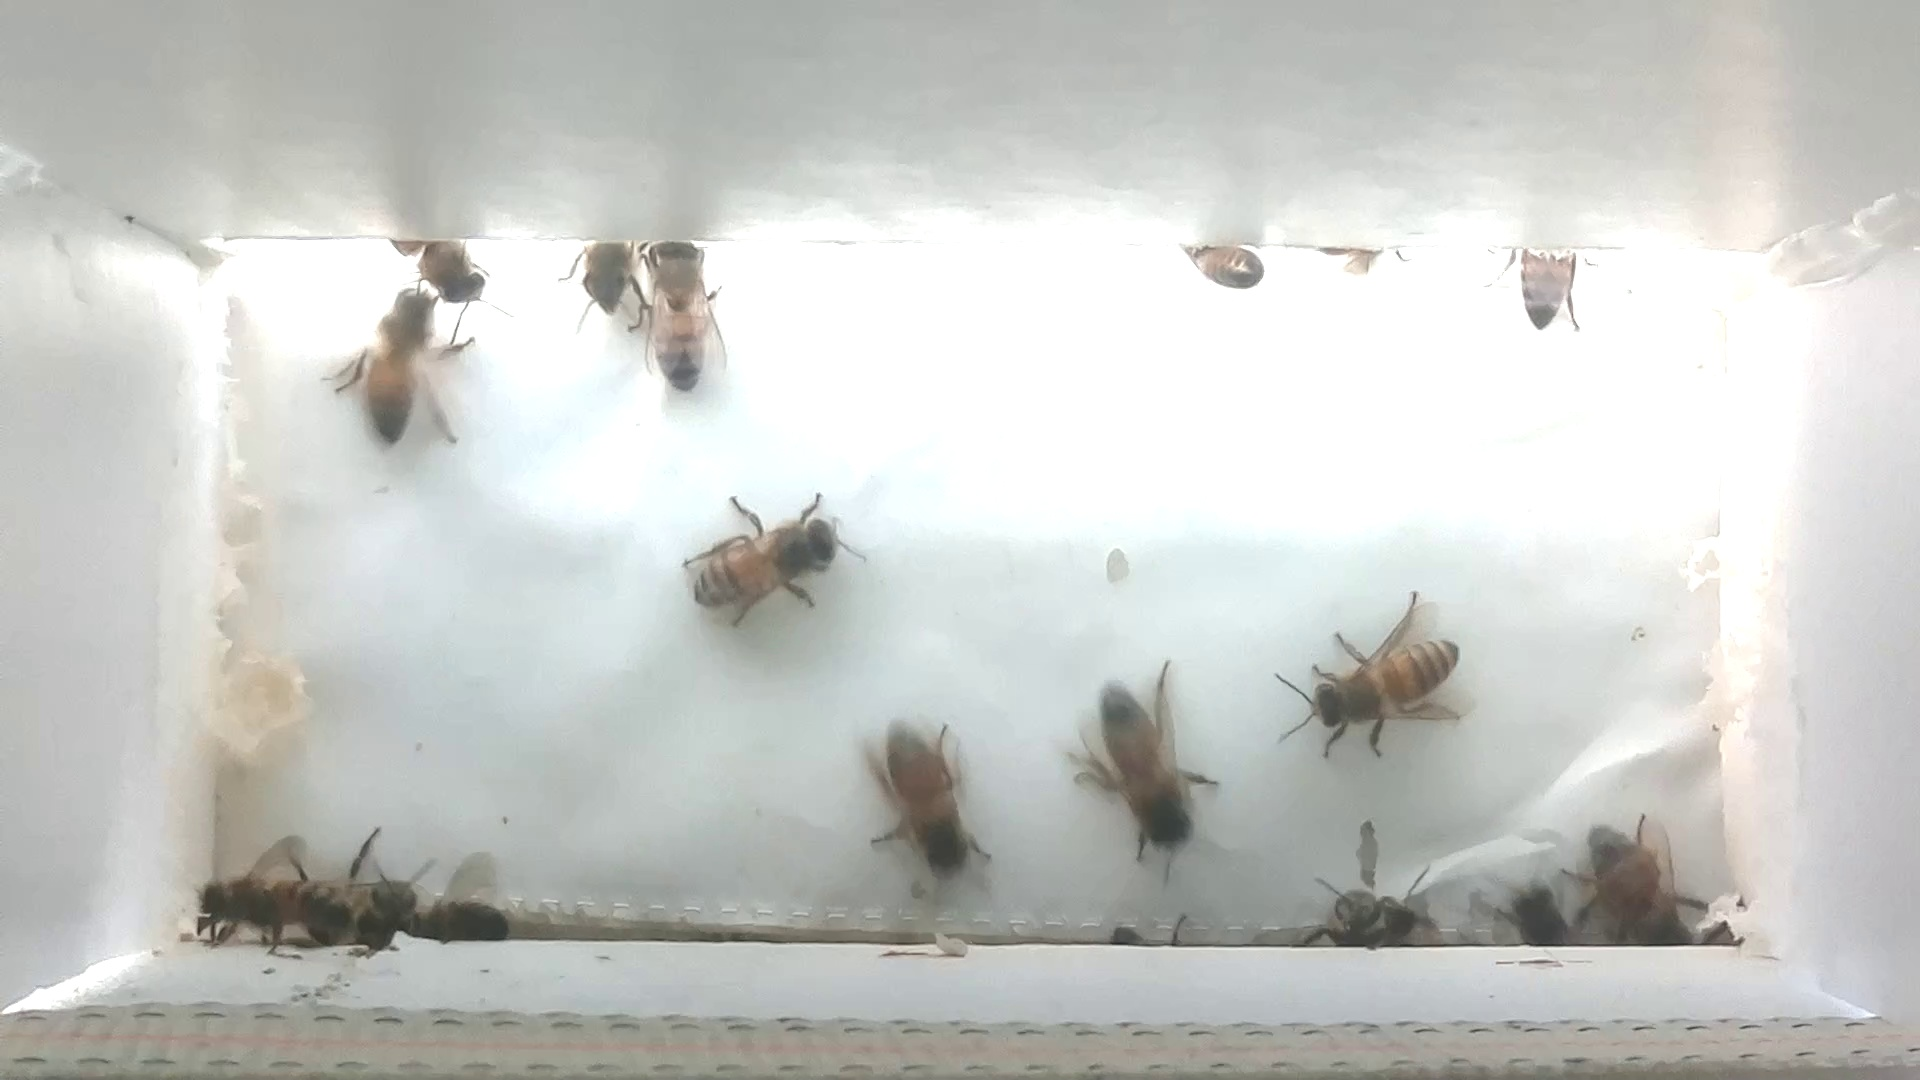bee: (1054, 659, 1244, 873), (1261, 585, 1480, 764), (669, 473, 873, 629), (853, 705, 1007, 895), (326, 276, 481, 458), (1571, 808, 1720, 959), (633, 237, 735, 400), (364, 860, 520, 959), (190, 841, 326, 948), (1474, 229, 1601, 342), (384, 224, 508, 326), (1300, 862, 1429, 957), (1480, 860, 1588, 961), (1160, 229, 1290, 305), (564, 236, 653, 330)
